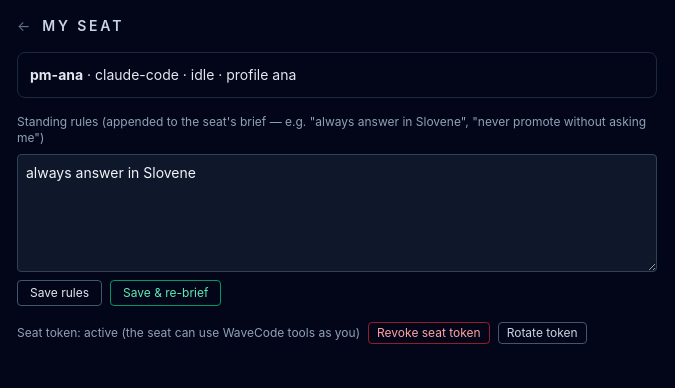
Scenario: Settings → My seat (spec §5d) › edits rules and re-briefs
expect the heading "My seat" is shown: met, box [42,16,124,36]
expect the text "pm-ana" is shown: met, box [30,66,83,83]
Replace the text in the text box labelled "Standing rules" with "never promote without asking me" at (337, 213), box [17,154,657,272]
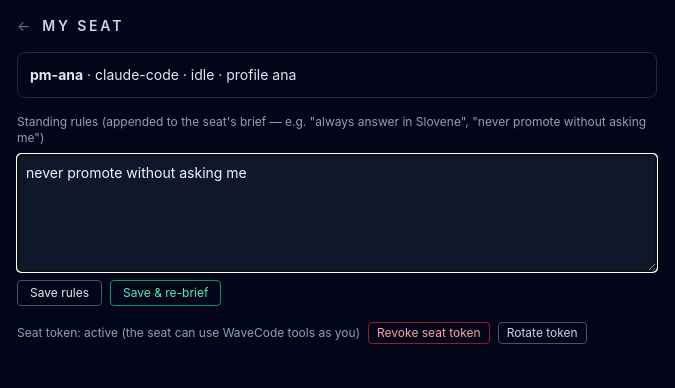
Click the button "Save & re-brief" at (166, 293), box [110,280,221,306]
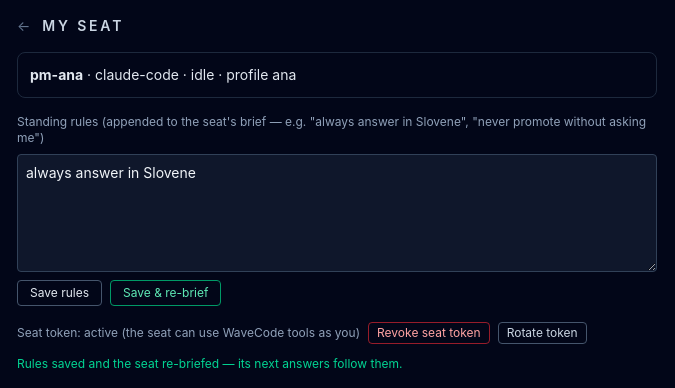
expect the message shows "re-briefed": met, box [17,356,402,371]
